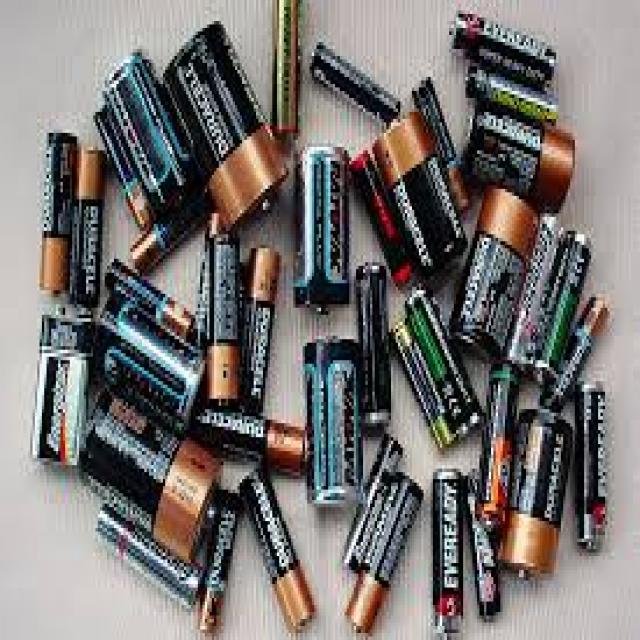non-organic waste: (162, 18, 290, 227), (76, 382, 220, 566), (102, 45, 214, 223), (367, 101, 472, 288), (449, 175, 538, 371), (233, 458, 314, 640), (456, 92, 578, 212), (343, 465, 424, 640), (497, 400, 570, 588), (301, 331, 370, 512), (402, 287, 482, 442), (28, 294, 88, 474), (290, 139, 350, 319), (444, 2, 564, 88), (306, 32, 403, 134), (239, 243, 284, 420), (106, 254, 195, 339), (575, 374, 615, 556), (426, 458, 465, 640), (204, 229, 243, 409), (38, 126, 78, 300), (351, 257, 390, 429), (72, 146, 107, 311), (266, 0, 306, 142)
